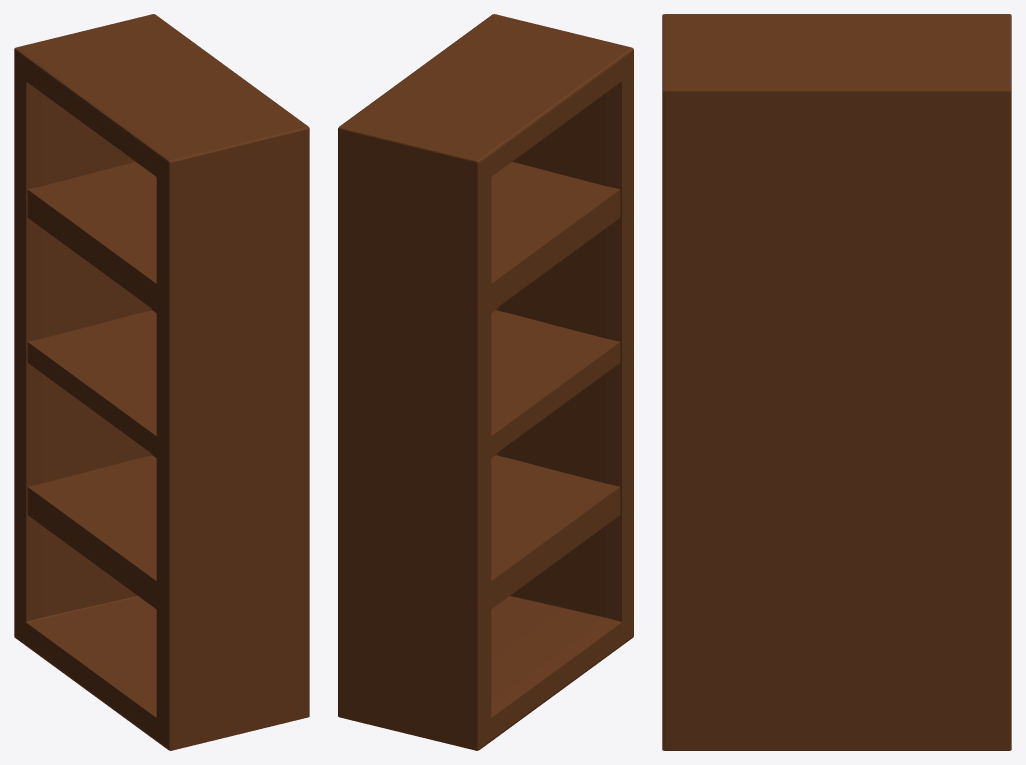
The model's file is BookShelfNewShelves.FBX.
3 views of the same model, side by side, from view 1: azimuth 30°, elevation 25°; view 2: azimuth 150°, elevation 25°; view 3: azimuth 270°, elevation 25° (orthographic). The views are drawn at different scales.
Visible parts, largest first — view 1: Cube; view 2: Cube; view 3: Cube.
Boxes of the visible parts, bbox=[...] form: Cube: bbox=[14, 14, 309, 750]; Cube: bbox=[338, 14, 633, 750]; Cube: bbox=[662, 14, 1011, 750].
Bounding box in the file's own units: 1.64 × 6.56 × 3.14.
